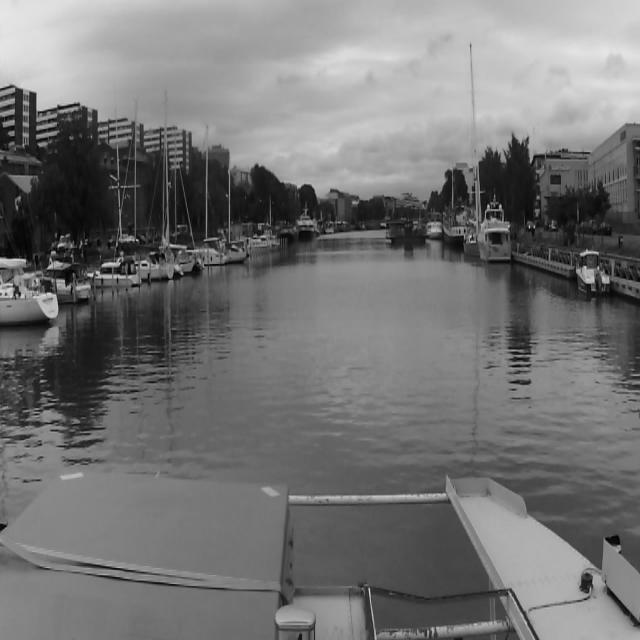ship: (154, 100, 202, 290), (195, 113, 249, 268), (51, 232, 95, 305), (477, 193, 512, 266), (575, 249, 611, 300), (384, 216, 432, 248), (94, 257, 140, 288), (293, 201, 323, 245)
